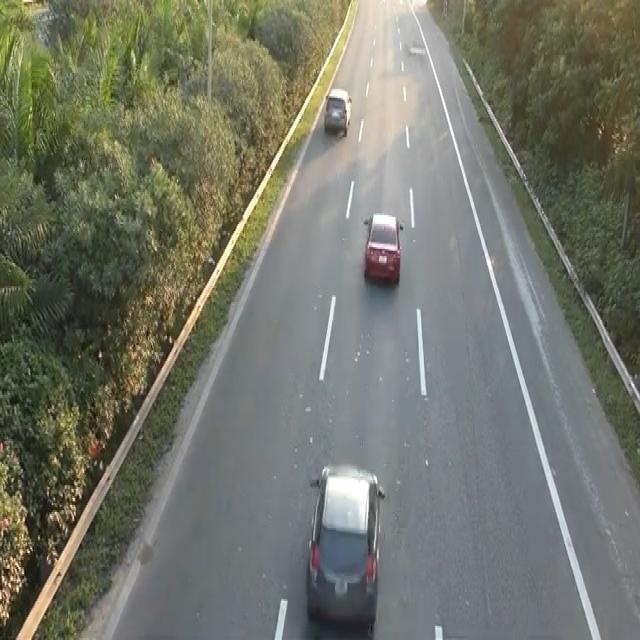bus: (303, 459, 386, 629), (361, 208, 404, 286), (322, 85, 352, 137)
